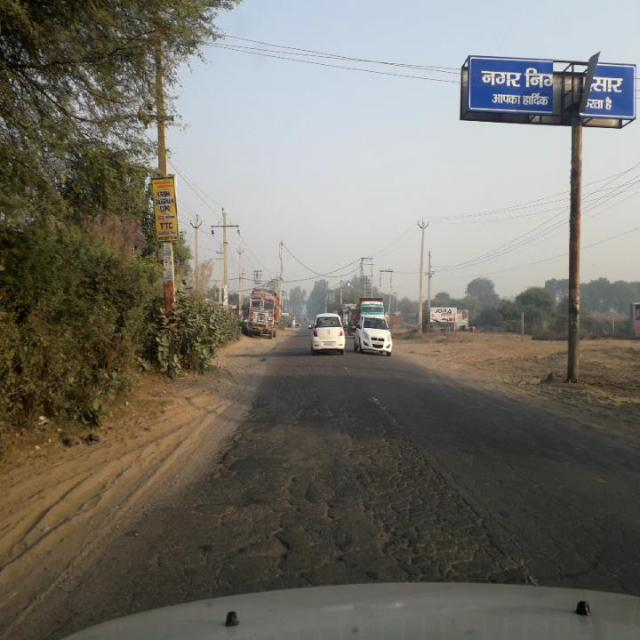D20: (166, 374, 505, 580)
D40: (214, 428, 326, 576)
